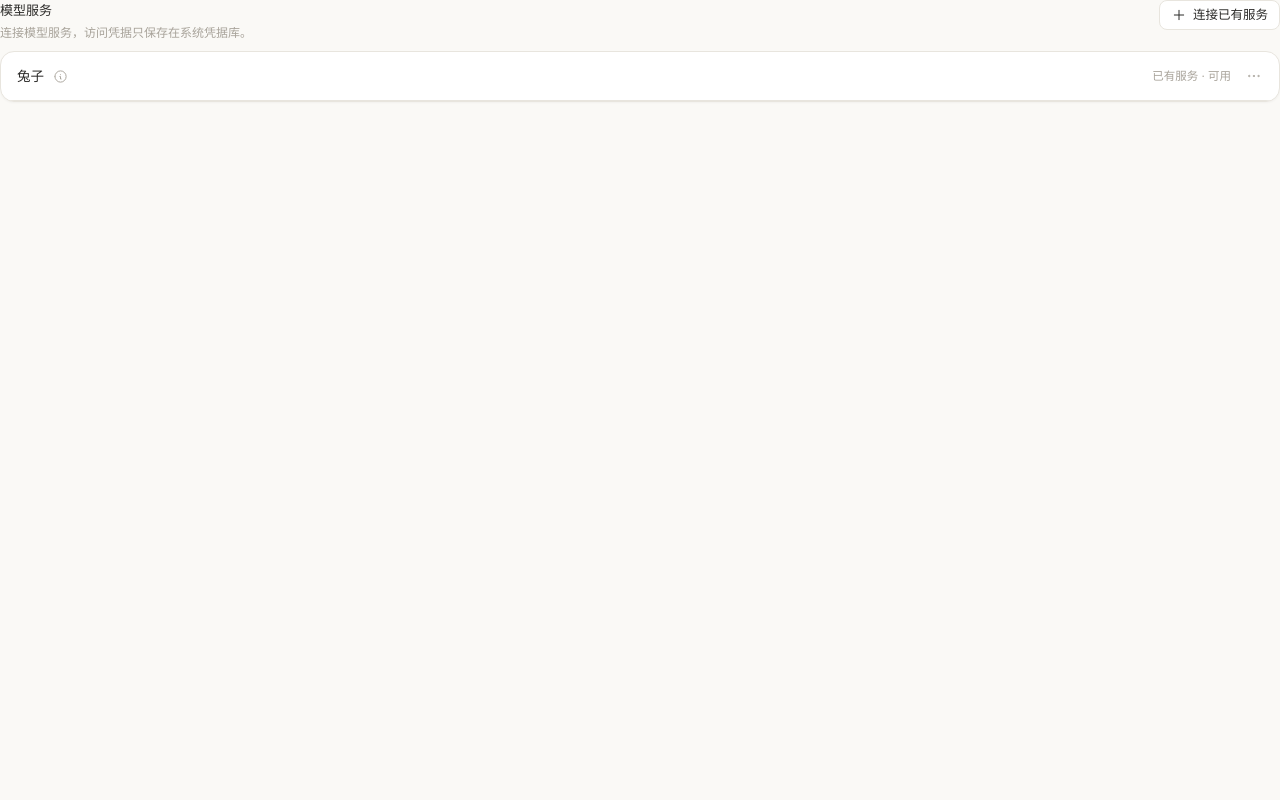
Test: ModelServicesSettings › offers manual compatibility testing without running it automatically
Press Enter in the button named "兔子 更多操作", box [1239,61,1269,91]
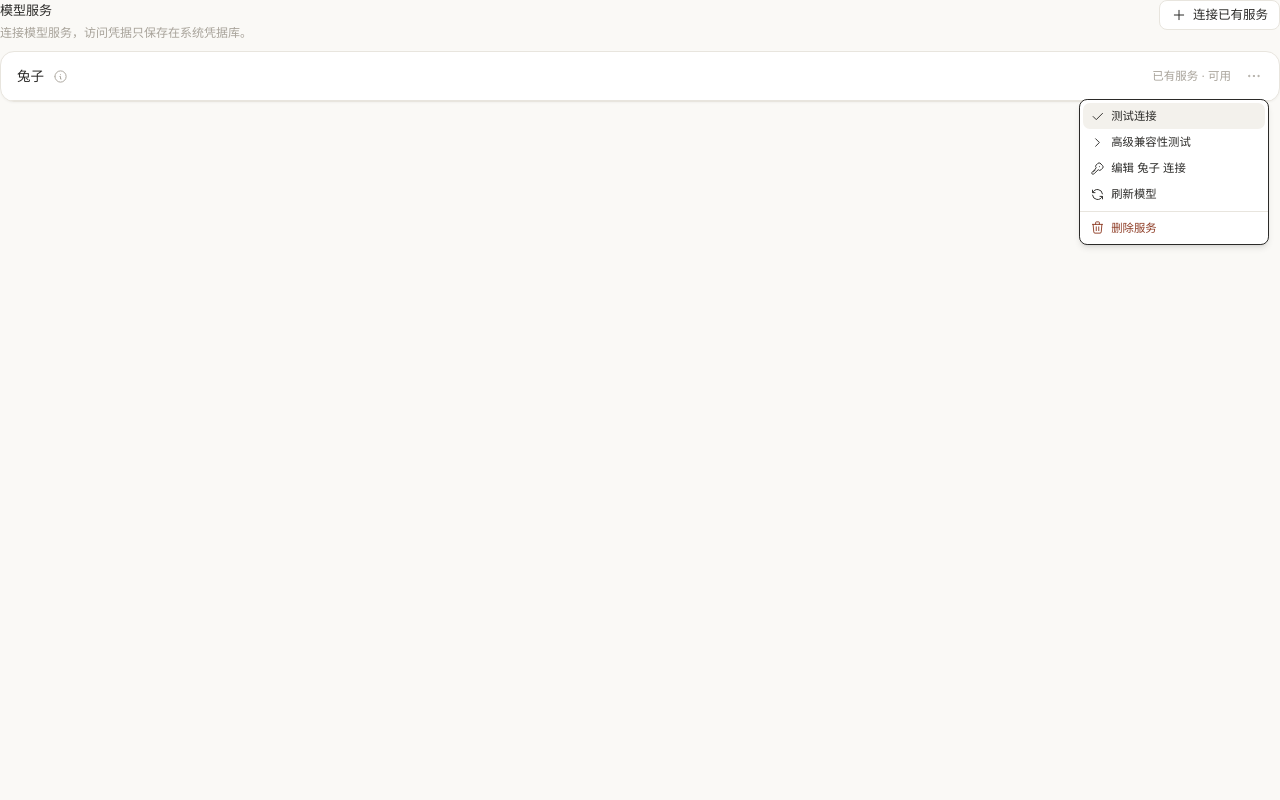
Click the menu item "高级兼容性测试".
click(1140, 142)  # box [1090,135,1191,150]
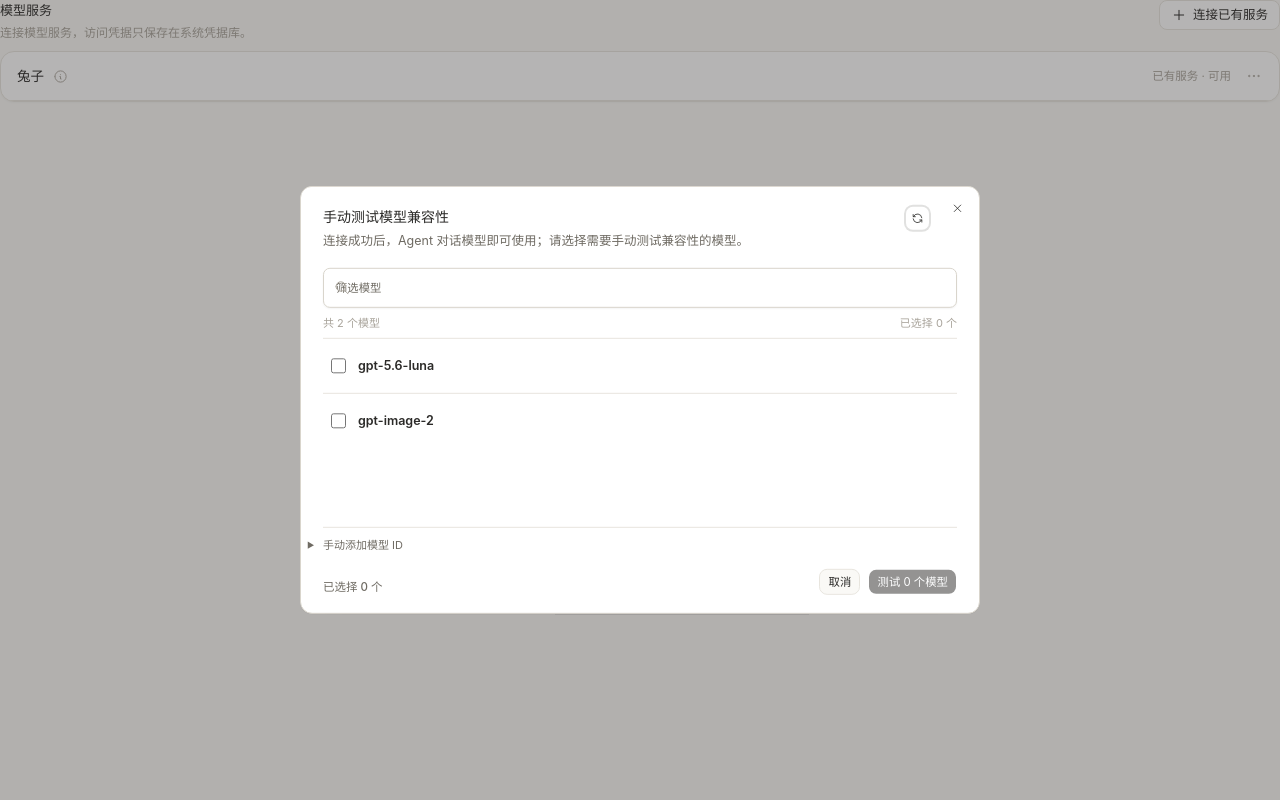
Now the text "连接成功后，Agent 对话模型即可使用；请选择需要手动测试兼容性的模型。" is shown, box [323,230,749,250]
